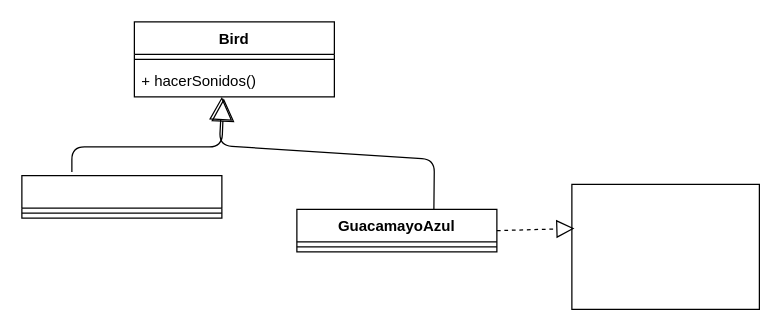
This 781x331 diagram has some shape labels left out. The shapes that lost their labels are listed below. From the top down, each one's centre as x and y in pixels, then its label:
At (121,196): "Ostrich".
At (665,246): "<<Interface>> Fly + fly()".
